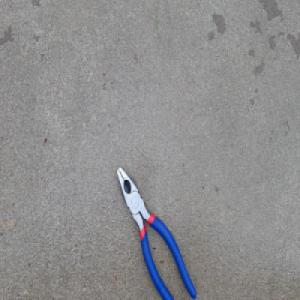Pliers: (115, 165, 196, 299)
